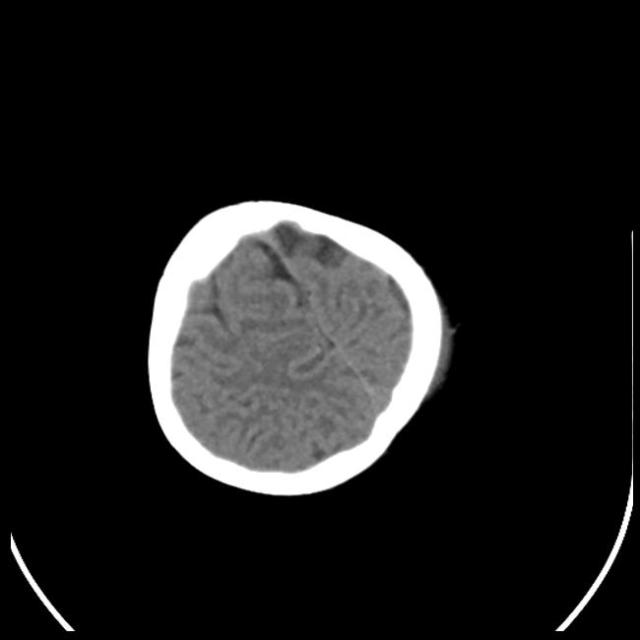lesion: (140, 191, 459, 502)
